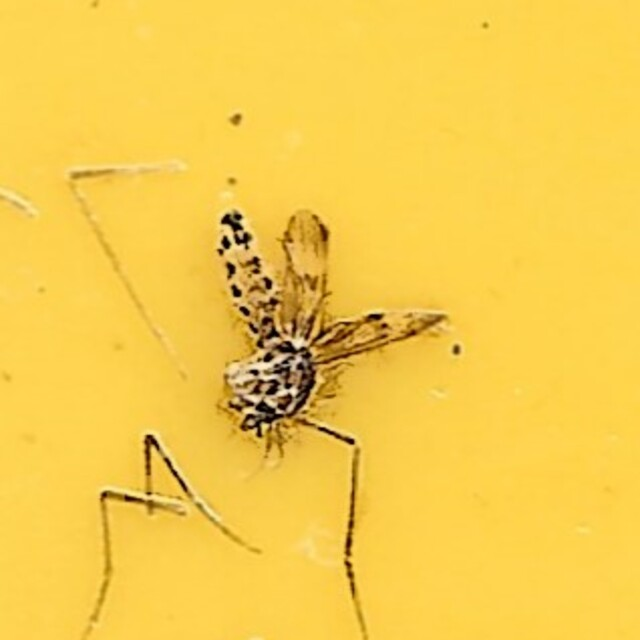Nematocera: (201, 192, 439, 448)
